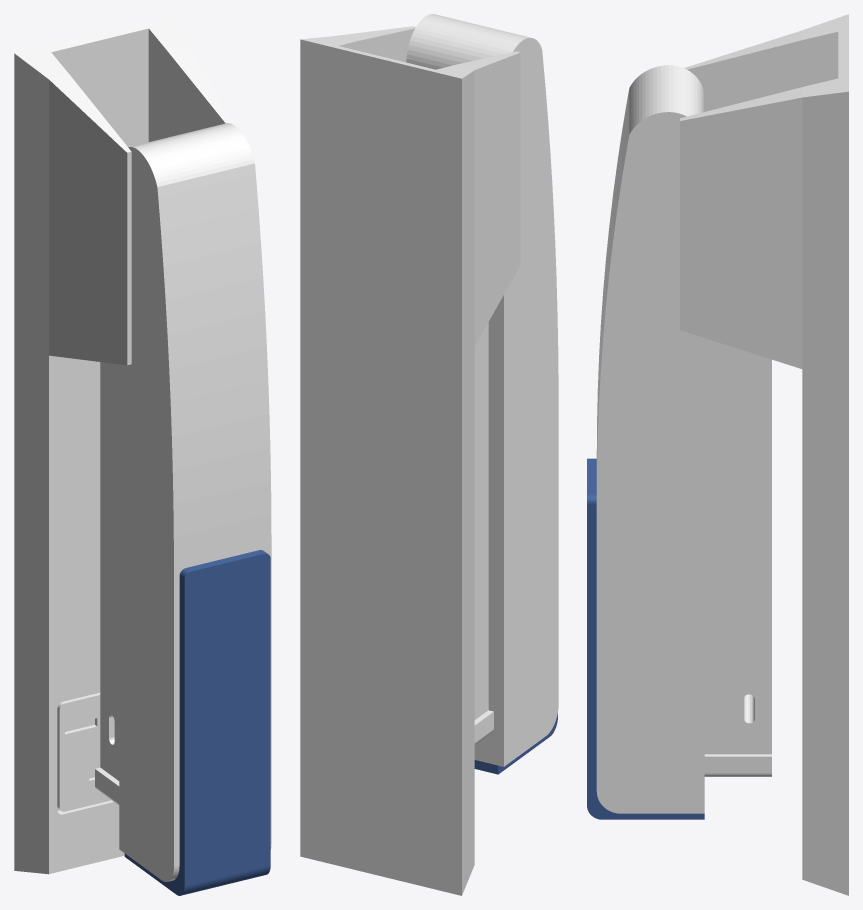
3 renders of one model, left to right at view 1: azimuth 30°, elevation 25°; view 2: azimuth 150°, elevation 25°; view 3: azimuth 270°, elevation 25°, orthographic.
Parts seen in each view (by area): view 1: stapler; view 2: stapler; view 3: stapler.
Boxes of the visible parts, <box> form: stapler: <box>14,14,271,895</box>; stapler: <box>300,14,558,895</box>; stapler: <box>587,14,848,895</box>.
Size of the model in its own units: 1.5 by 7.25 by 2.14.
